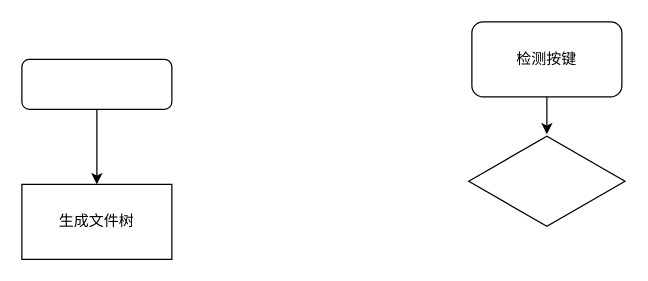
This 648x281 diagram has some shape labels left out. Here are the shapes that lost their labels. From the top down, the box of each, then its label:
(21, 58, 172, 109): 启动
(468, 133, 625, 228): 按键1按下？
